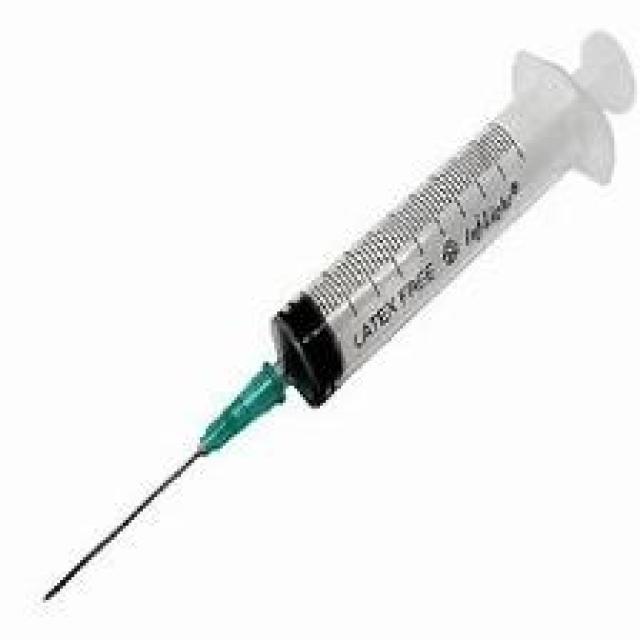syringe: (47, 31, 621, 628)
